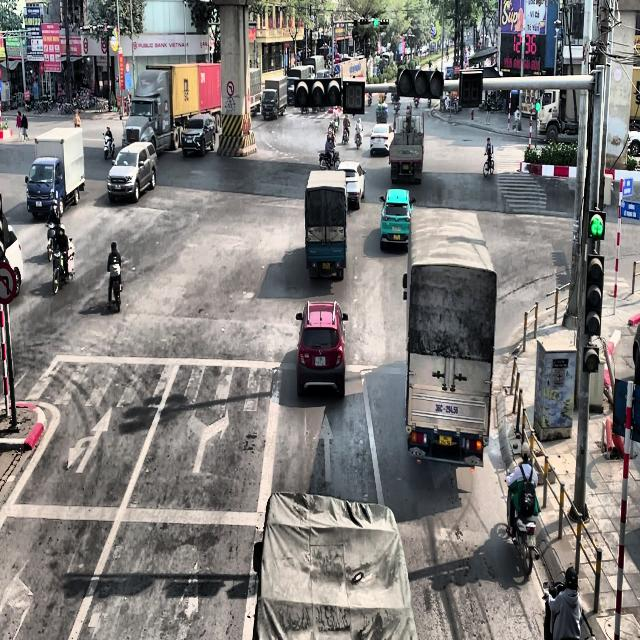lisence_plate: (434, 400, 459, 416), (438, 434, 452, 447), (314, 354, 326, 368), (318, 260, 332, 272), (402, 150, 411, 156), (393, 235, 401, 241), (404, 163, 409, 170)
